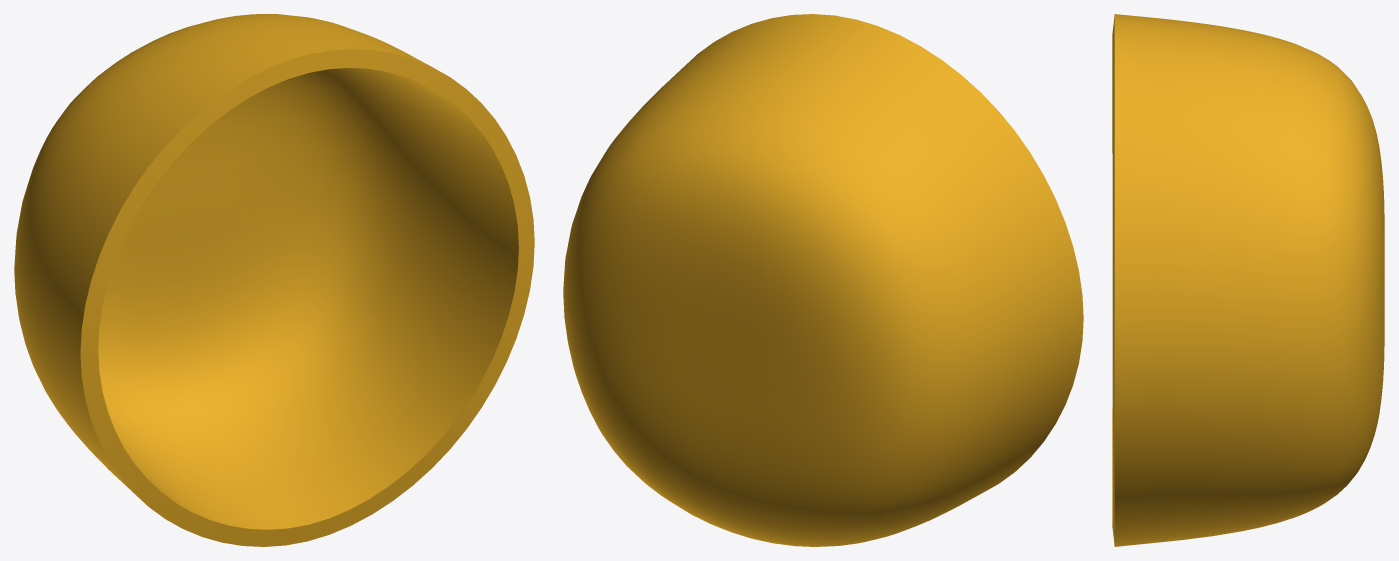
Rendered from bowl(with physical material).fbx.
3 views of the same model, side by side, from view 1: azimuth 30°, elevation 25°; view 2: azimuth 150°, elevation 25°; view 3: azimuth 270°, elevation 25° (orthographic).
Visible parts, largest first — view 1: Body1; view 2: Body1; view 3: Body1.
Boxes of the visible parts, bbox=[...] form: Body1: bbox=[14, 14, 534, 546]; Body1: bbox=[563, 14, 1083, 546]; Body1: bbox=[1112, 14, 1384, 546].
Bounding box in the file's own units: 122 × 124 × 62.82.
